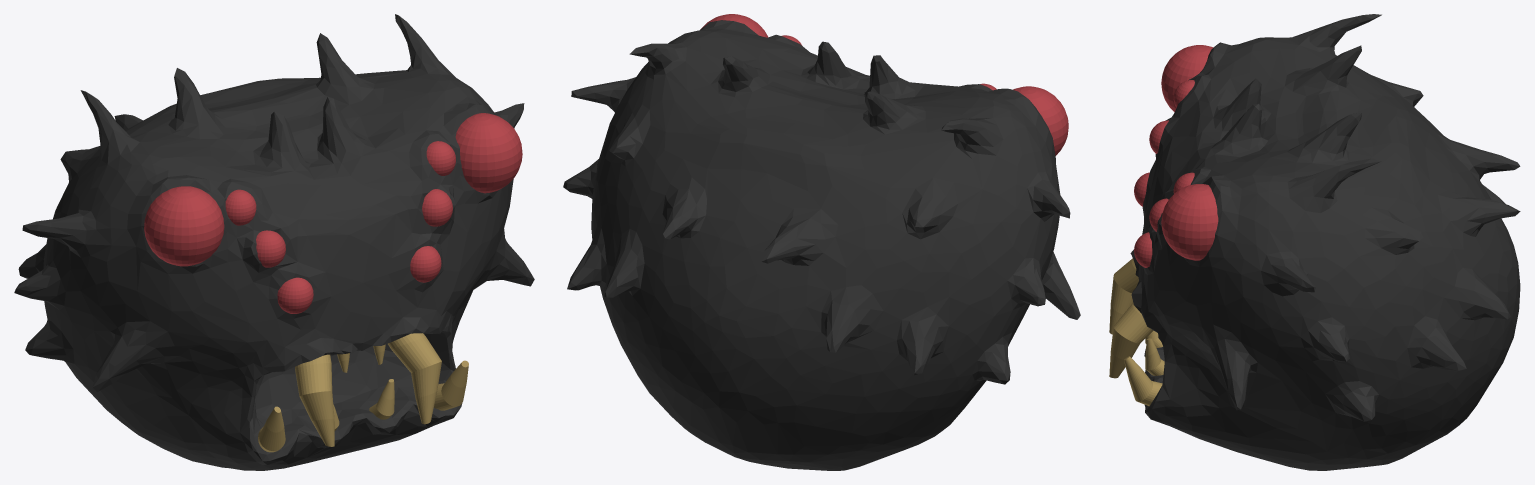
The model's file is HeadSpider.fbx.
The picture shows the model from 3 angles, left to right: view 1: azimuth 30°, elevation 25°; view 2: azimuth 150°, elevation 25°; view 3: azimuth 270°, elevation 25°; orthographic projection. The views are drawn at different scales.
Visible parts, largest first — view 1: Sphere; view 2: Sphere; view 3: Sphere.
Part boxes in pixels (x1,y1,x2,y2): Sphere: [14, 14, 534, 470]; Sphere: [563, 14, 1080, 470]; Sphere: [1109, 14, 1520, 470].
Size of the model in its own units: 142 by 105 by 105.
